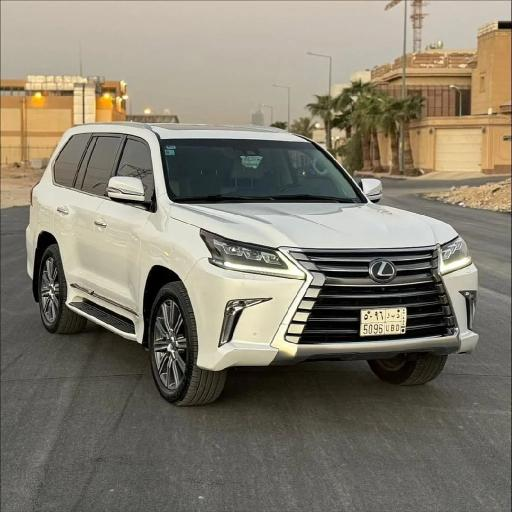license-plates: (360, 307, 407, 336)
